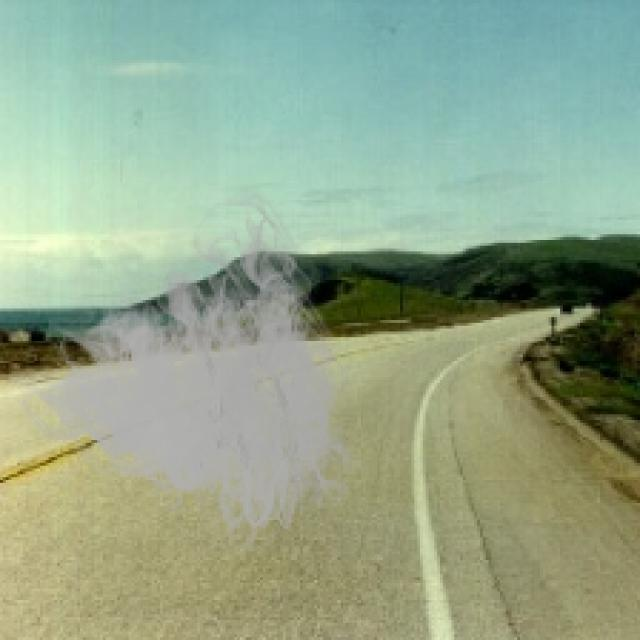Smoke: (12, 186, 374, 563)
